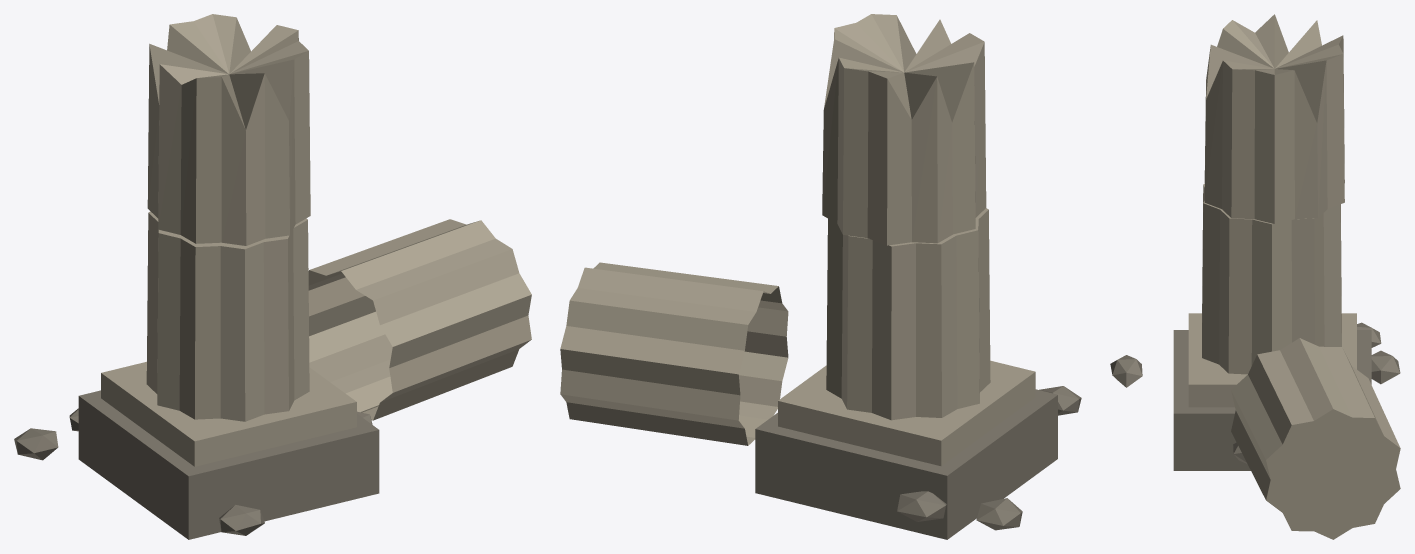
File: PillarBrokenA.glb
The picture shows the model from 3 angles, left to right: view 1: azimuth 30°, elevation 25°; view 2: azimuth 150°, elevation 25°; view 3: azimuth 270°, elevation 25°; orthographic projection. The views are drawn at different scales.
Visible parts, largest first — view 1: PillarBrokenA.stone, PillarBrokenA.stoneDark; view 2: PillarBrokenA.stone, PillarBrokenA.stoneDark; view 3: PillarBrokenA.stone, PillarBrokenA.stoneDark.
Part boxes in pixels (x1,y1,x2,y2): PillarBrokenA.stone: (101, 14, 531, 466); PillarBrokenA.stoneDark: (14, 390, 379, 539); PillarBrokenA.stone: (560, 14, 1035, 466); PillarBrokenA.stoneDark: (755, 386, 1081, 539); PillarBrokenA.stone: (1188, 14, 1400, 539); PillarBrokenA.stoneDark: (1110, 322, 1400, 470).
Size of the model in its own units: 11.39 by 10.09 by 6.89.
